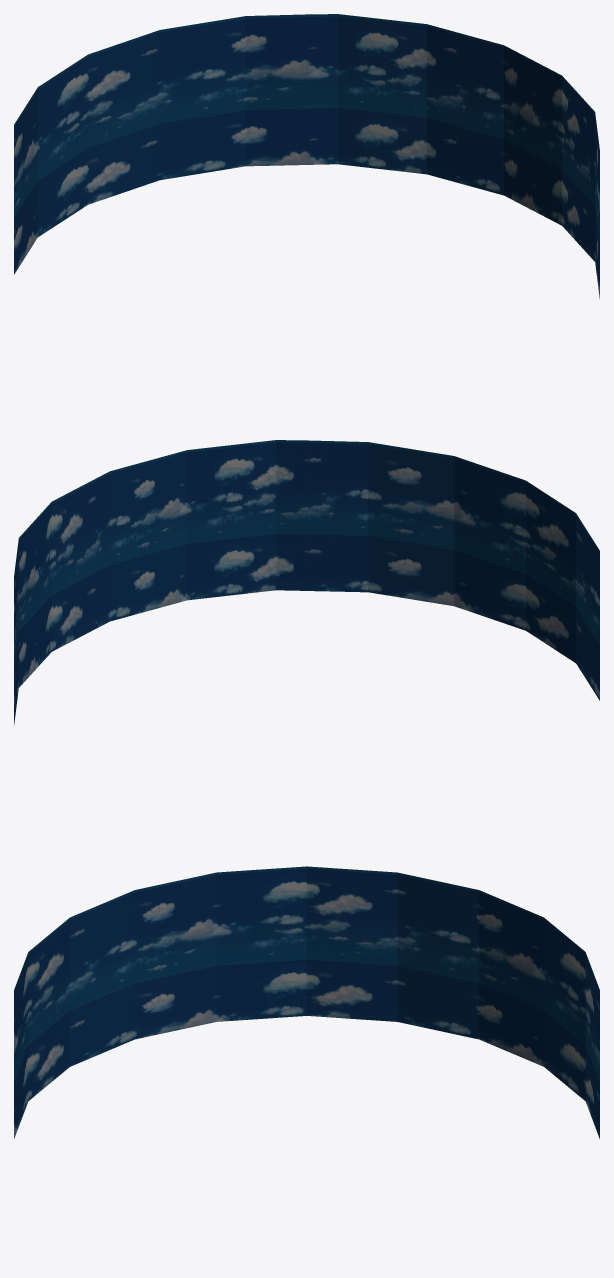
File: vrcorn.glb
3 views of the same model, one above another, from view 1: azimuth 30°, elevation 25°; view 2: azimuth 150°, elevation 25°; view 3: azimuth 270°, elevation 25° (orthographic).
Visible parts, largest first — view 1: polygon0; view 2: polygon0; view 3: polygon0.
Part boxes in pixels (<box>): polygon0: <box>14,14,599,299</box>; polygon0: <box>14,440,599,725</box>; polygon0: <box>14,866,599,1138</box>.
Bounding box in the file's own units: 1373 × 704 × 1373.
1 material, 1 textured.
